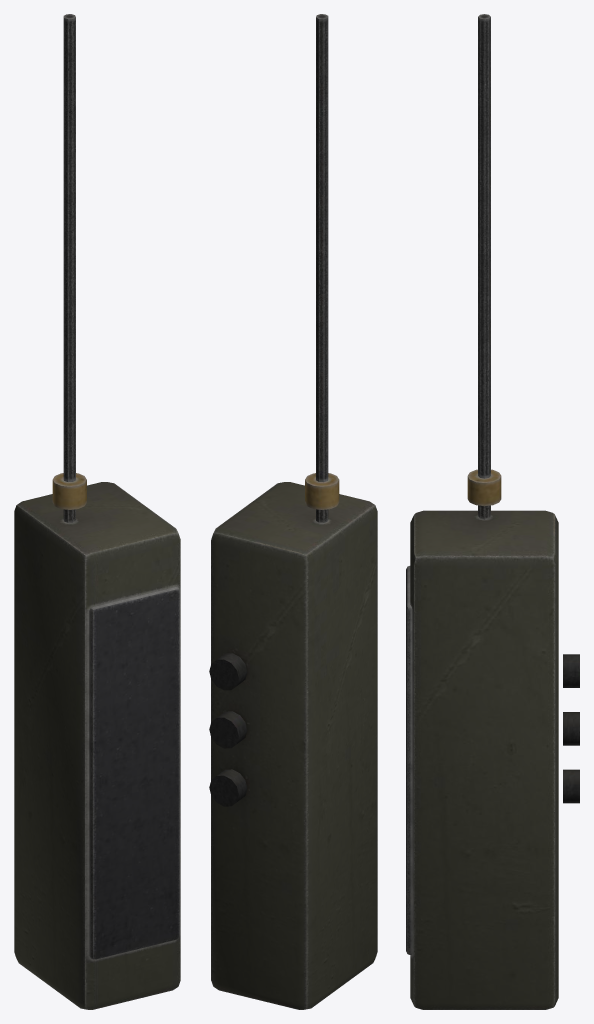
File: footman_field_radio.glb
3 renders of one model, left to right at view 1: azimuth 30°, elevation 25°; view 2: azimuth 150°, elevation 25°; view 3: azimuth 270°, elevation 25°, orthographic.
Parts seen in each view (by area): view 1: footman_field_radio; view 2: footman_field_radio; view 3: footman_field_radio.
Boxes of the visible parts, left/top/right/bottom form: footman_field_radio: left=14, top=14, right=180, bottom=1009; footman_field_radio: left=209, top=14, right=377, bottom=1009; footman_field_radio: left=406, top=14, right=579, bottom=1009.
Bounding box in the file's own units: 0.0552 × 0.4996 × 0.082.
1 material, 1 textured.
